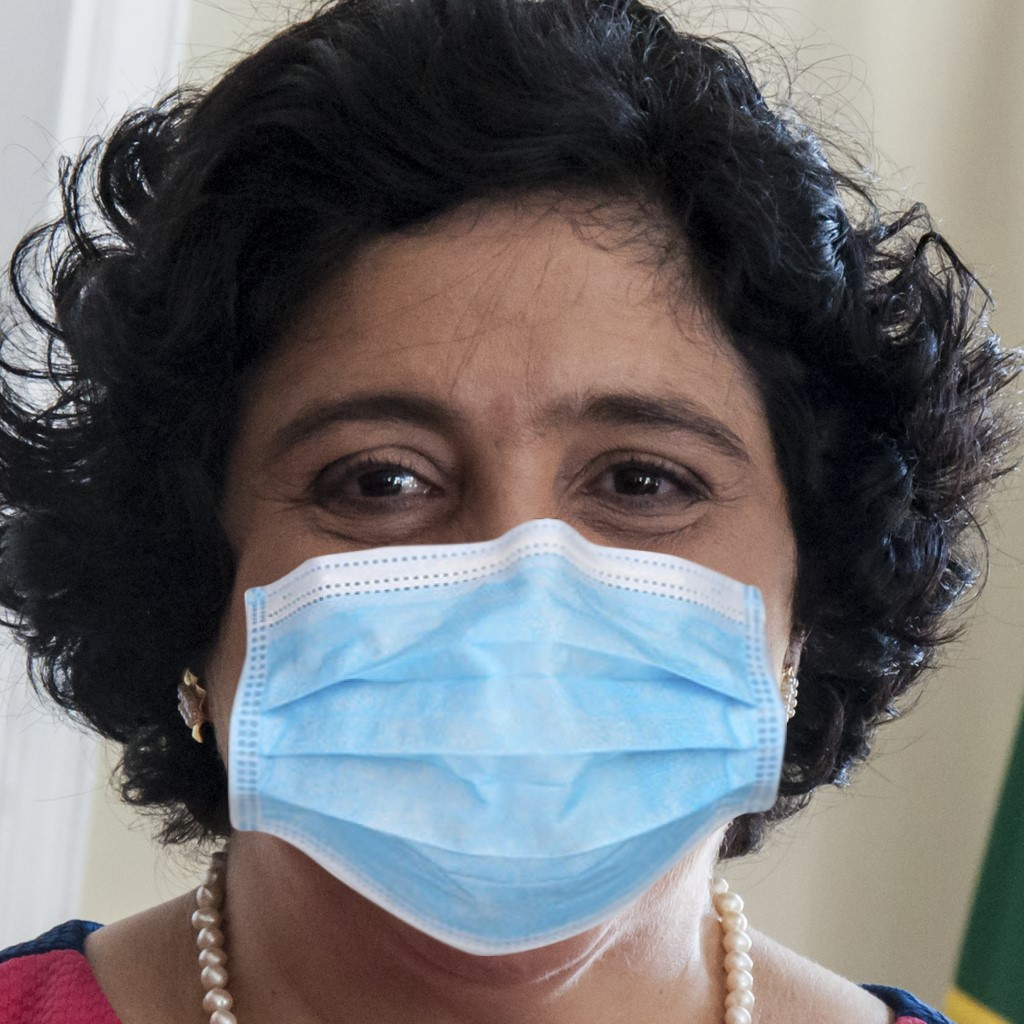con_mascara: (200, 212, 805, 959)
